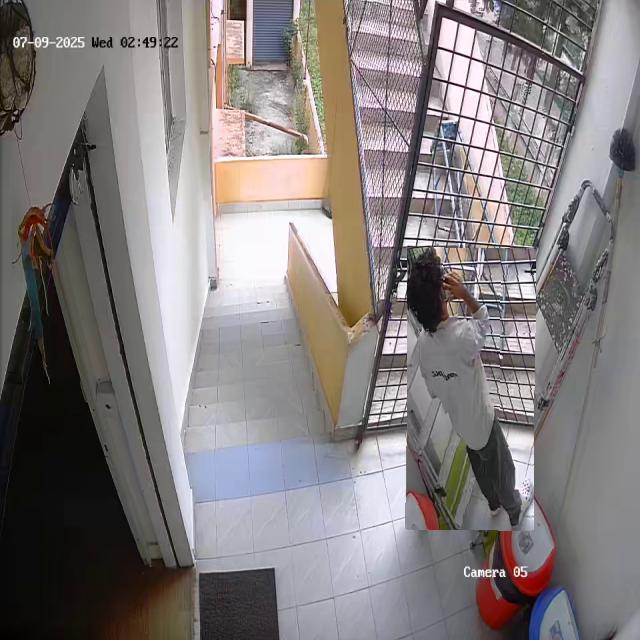person: (406, 247, 535, 531)
